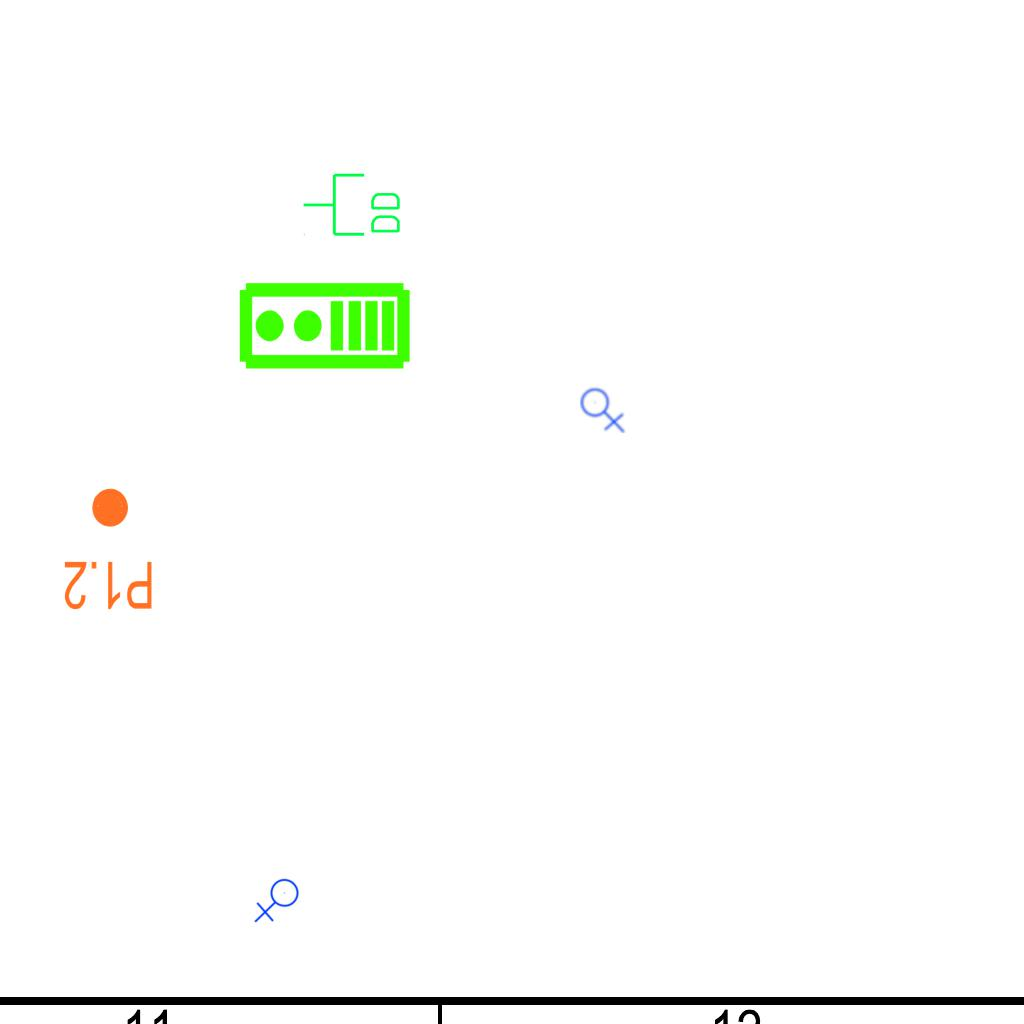Datenanschluss_zweifach: (301, 171, 404, 240)
Downlight_LED_Einbauleuchten_Flur: (62, 485, 155, 613)
Elektroanschluss_allgemein_230V_Geraeteanschlussdose_230V: (254, 878, 303, 925), (580, 384, 627, 433)
Gegensprechanlage_mit_Video: (236, 280, 412, 375)
